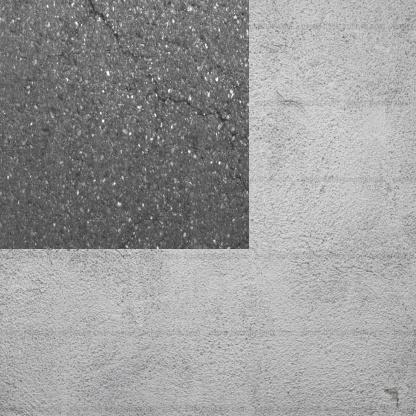Cracks: (140, 71, 212, 116), (73, 0, 128, 55), (207, 150, 230, 181), (207, 117, 220, 138)
